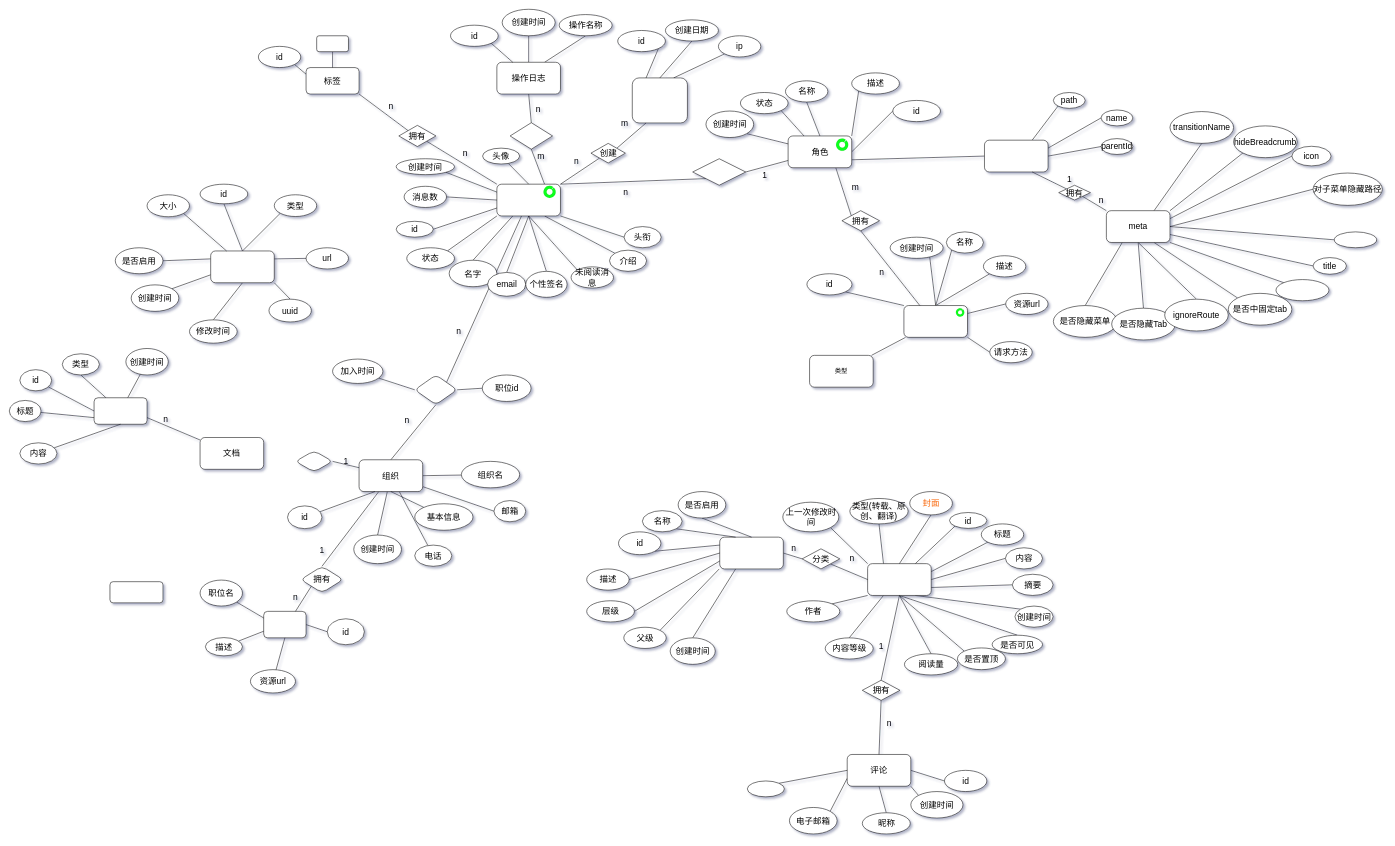
Image size: 1395x846. Some labels were removed from this diagram. Each missing label, with the box of its shape:
label: (316, 35, 348, 52)
order: (1334, 231, 1377, 248)
人员记录: (109, 581, 163, 603)
健康打卡: (94, 397, 147, 424)
包含: (414, 374, 457, 405)
后台用户登录日志表: (632, 77, 687, 123)
属于: (692, 158, 746, 185)
引用: (747, 780, 784, 797)
文件: (210, 250, 274, 283)
文章: (867, 563, 931, 595)
是否使用缓存: (1275, 279, 1329, 301)
生成: (510, 122, 553, 149)
用户: (496, 184, 560, 216)
类别: (719, 537, 783, 569)
职位: (263, 611, 306, 638)
菜单: (984, 140, 1048, 172)
记录: (295, 450, 333, 472)
资源: (903, 305, 968, 337)
